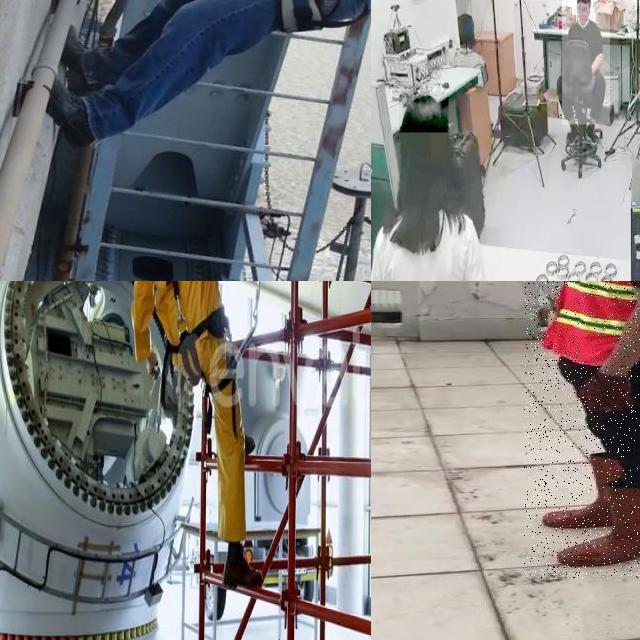Harness: (167, 281, 228, 377)
boots: (558, 484, 640, 568), (540, 453, 626, 527)
face_nomask: (576, 3, 590, 23)
head_nohelmet: (399, 92, 449, 134), (576, 0, 591, 3)
person: (523, 281, 640, 578), (371, 74, 510, 281), (561, 0, 610, 125)
shoes: (563, 116, 581, 150), (584, 116, 598, 150)
vest: (546, 281, 640, 367)
